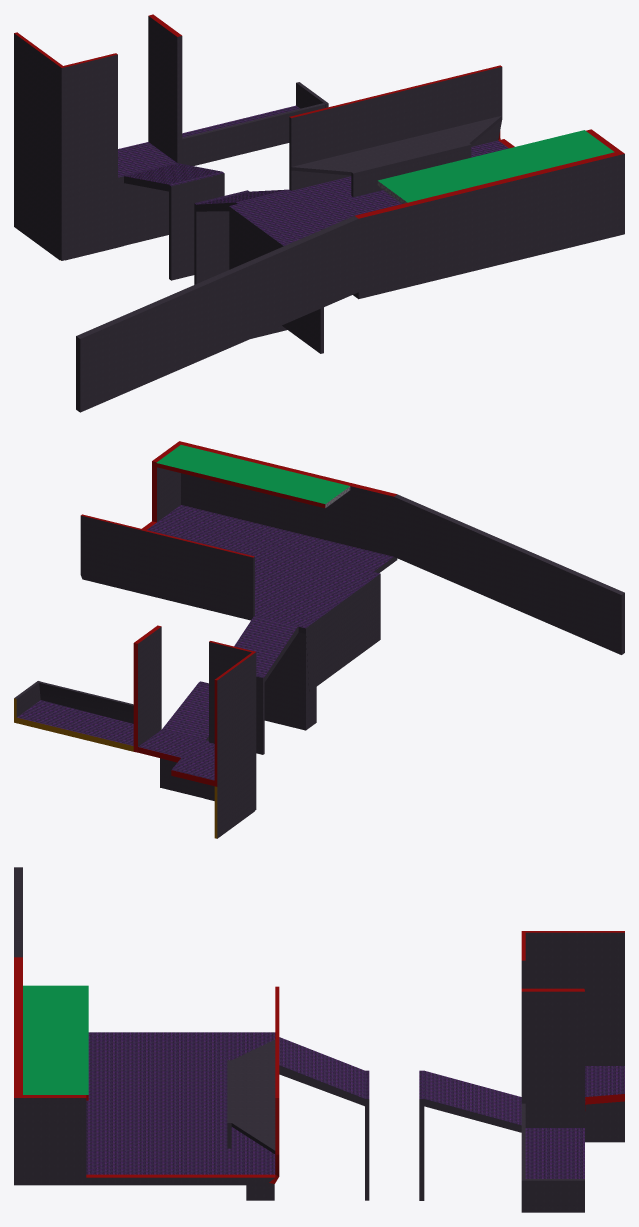
The model's file is MapPiece1.obj.
3 views of the same model, one above another, from view 1: azimuth 30°, elevation 25°; view 2: azimuth 150°, elevation 25°; view 3: azimuth 270°, elevation 25° (orthographic). The views are drawn at different scales.
Parts seen in each view (by area): view 1: MapPiece1; view 2: MapPiece1; view 3: MapPiece1.
Part boxes in pixels (left/top/right/bottom): MapPiece1: left=14, top=14, right=624, bottom=412; MapPiece1: left=14, top=441, right=624, bottom=838; MapPiece1: left=14, top=867, right=624, bottom=1212.
Size of the model in its own units: 82.55 by 28.89 by 74.09.
